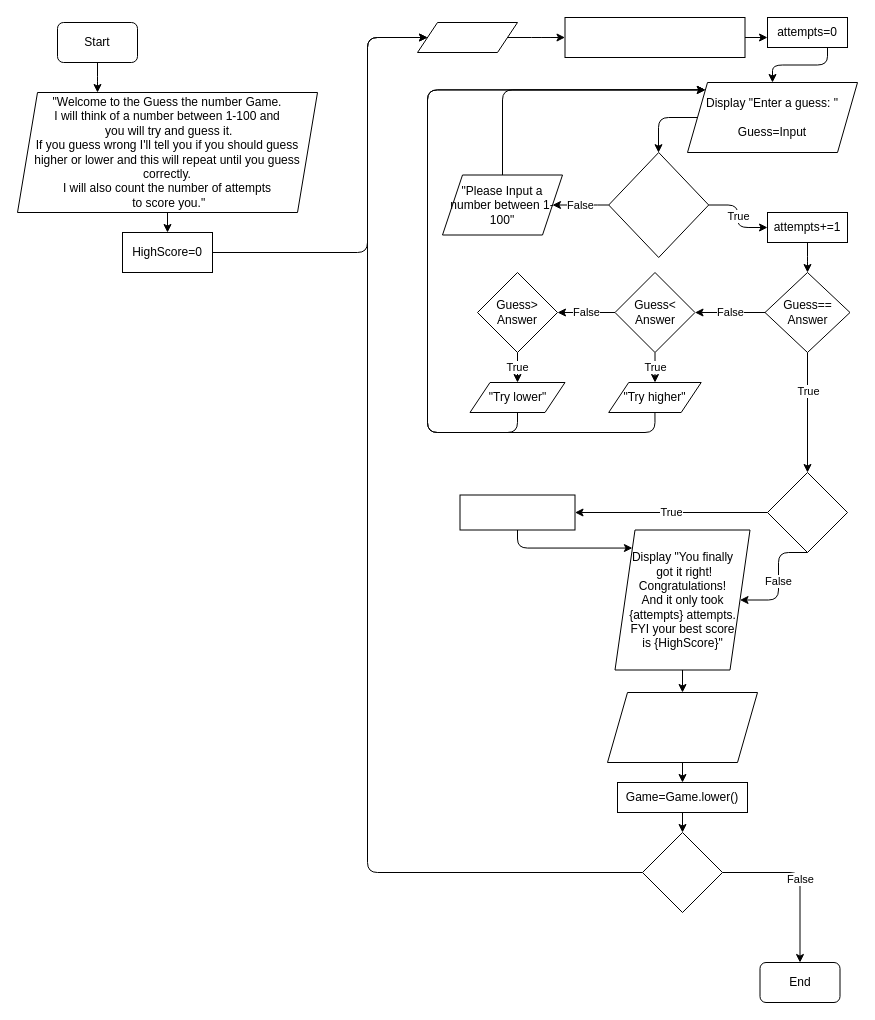
Image size: 875x1020. Some labels were removed from this diagram. Each missing label, with the centre of its shape:
"Good luck": the point at 467,37
Answer=random.randint(1,100): the point at 654,37
attempts< HighScore: the point at 807,512
Do you want to play again(Y/N)? Game=Input: the point at 682,727
Game== Y: the point at 682,872
Guess<=100 && Guess>=1: the point at 658,205
HighScore=attempts: the point at 517,512
